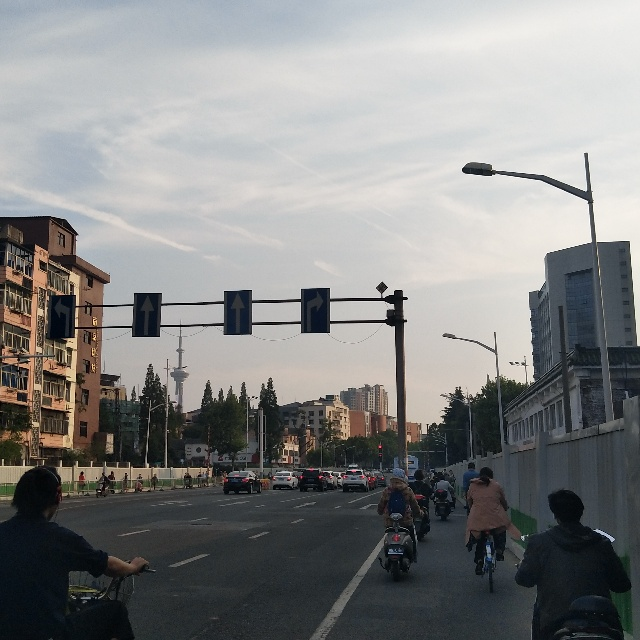left: (49, 294, 76, 340)
right: (302, 287, 330, 334)
straight: (131, 297, 160, 343), (230, 289, 250, 335)
